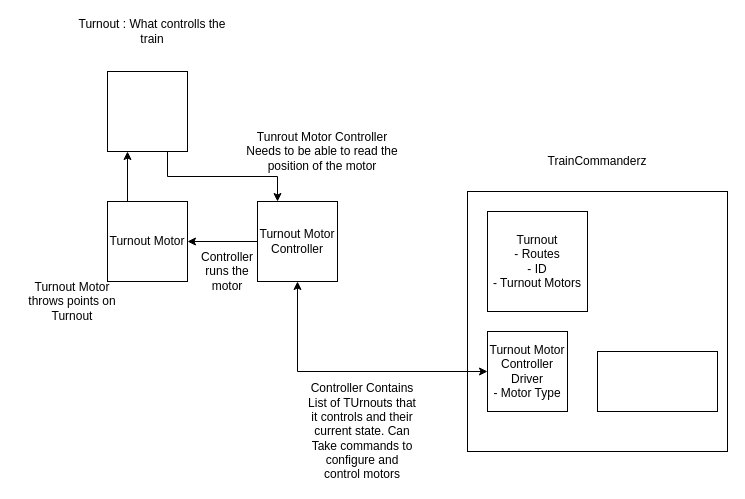
Image size: 745x499. Some labels were removed from this diagram. The box of each missing label's shape, as (x1, y1, x2, y2) in pixels:
Turnout: (106, 70, 188, 152)
Turnout Motor - Type - ID -State: (596, 350, 718, 412)
